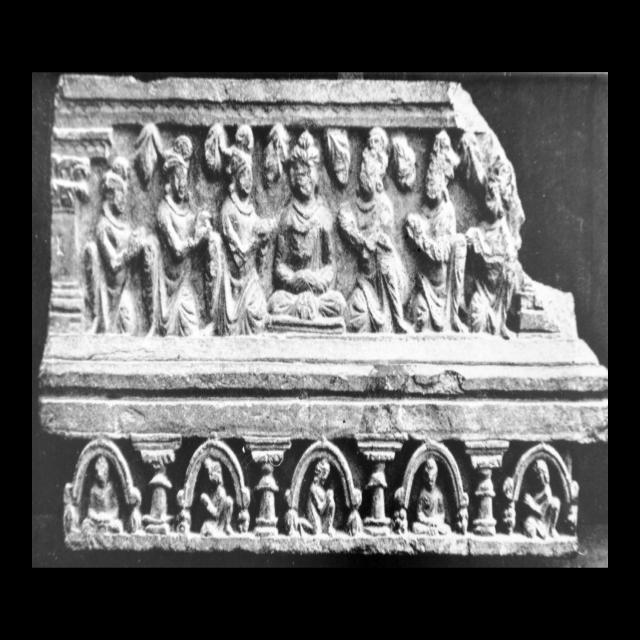buddha-sitting: (268, 131, 345, 320)
